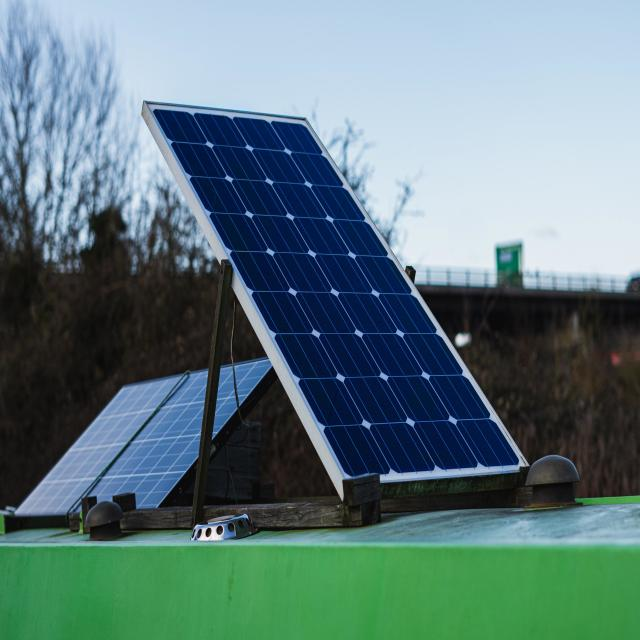clean-solar-panel: (151, 107, 521, 491)
